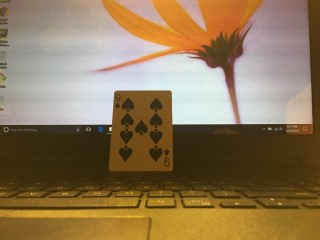NineOfSpades: (109, 90, 173, 171)
